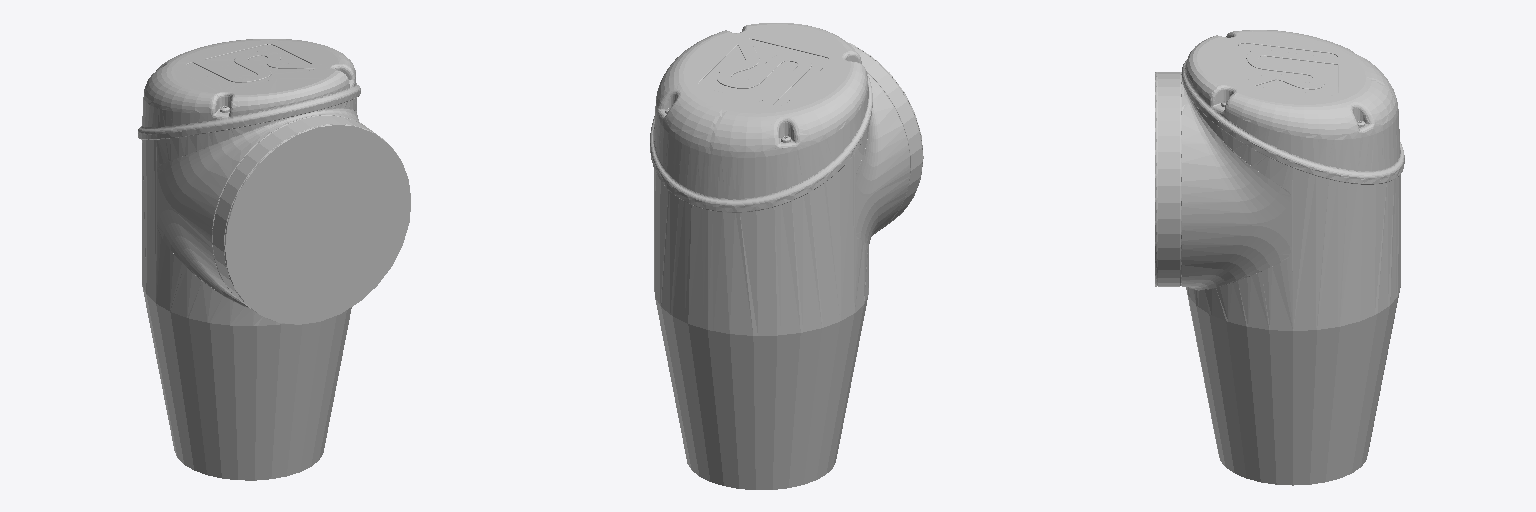
Rendered from armL link1.003.obj.
3 renders of one model, left to right at view 1: azimuth 30°, elevation 25°; view 2: azimuth 150°, elevation 25°; view 3: azimuth 270°, elevation 25°, orthographic.
Parts seen in each view (by area): view 1: collision_0_armR_link1_armL_link1.003; view 2: collision_0_armR_link1_armL_link1.003; view 3: collision_0_armR_link1_armL_link1.003.
Boxes of the visible parts, x1=… form: collision_0_armR_link1_armL_link1.003: x1=138, y1=39, x2=410, y2=480; collision_0_armR_link1_armL_link1.003: x1=650, y1=23, x2=923, y2=489; collision_0_armR_link1_armL_link1.003: x1=1155, y1=30, x2=1404, y2=485.
Bounding box in the file's own units: 0.06 × 0.1177 × 0.0672.